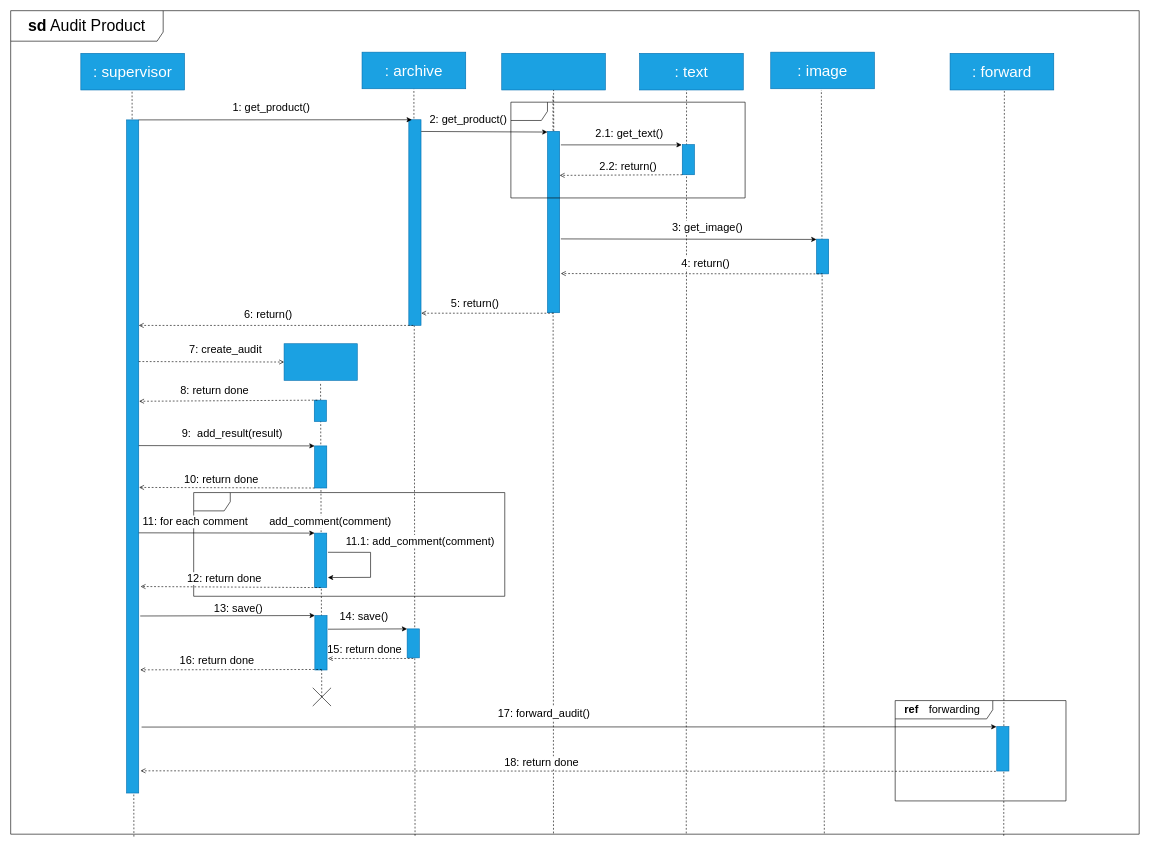
Image size: 1150x848. Some labels were removed from this diagram. The shapes that lost their labels are listed below. From the top down, each one's centre as x and y in pixels, then its label:
At (x=553, y=71): ": product".
At (x=627, y=150): "opt".
At (x=320, y=361): ": audit".
At (x=349, y=544): "loop".
